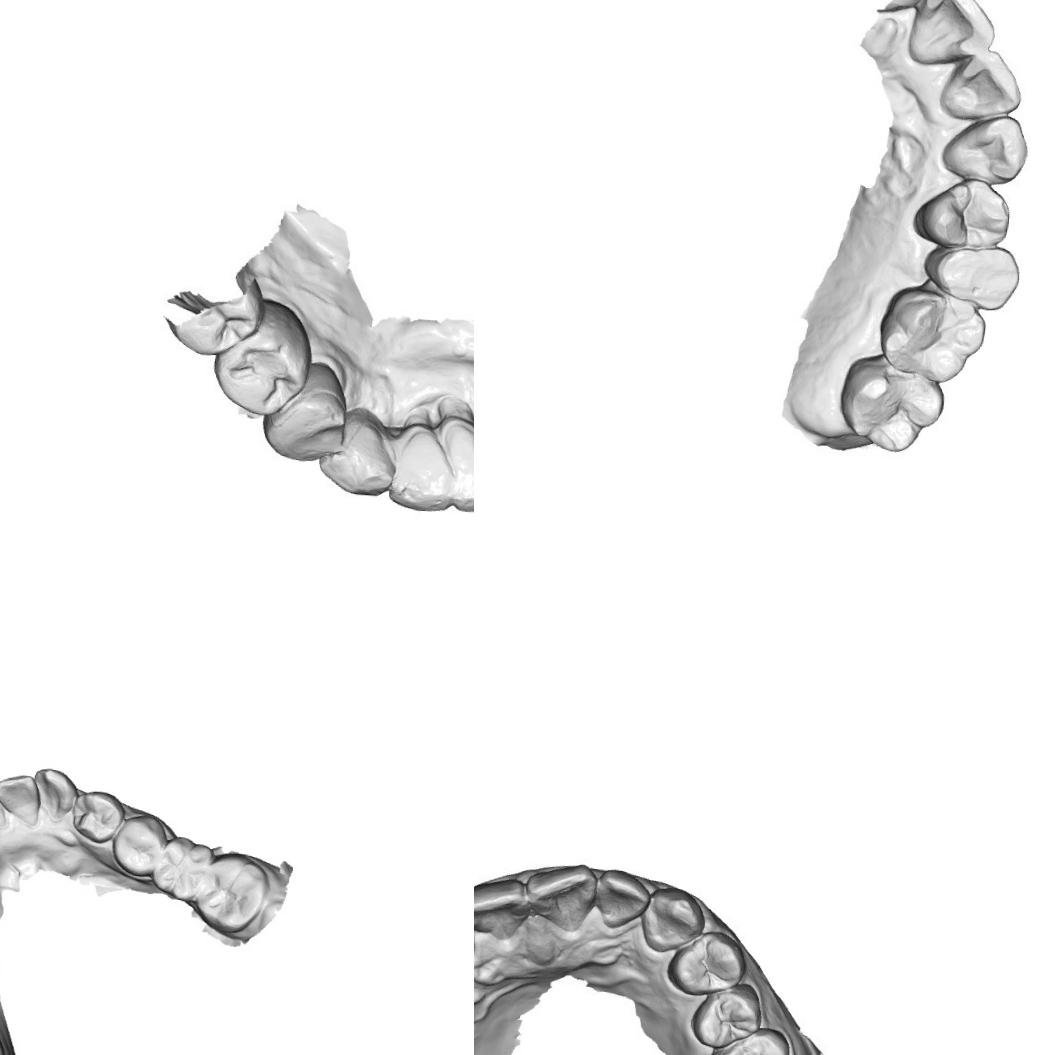canine: (317, 401, 398, 499), (936, 110, 1030, 188), (639, 886, 706, 952), (30, 764, 80, 825)
crown: (918, 237, 1023, 310)
incisor: (384, 412, 460, 516), (934, 44, 1022, 126), (904, 0, 1002, 69), (526, 862, 599, 938), (432, 408, 474, 515), (592, 867, 652, 933), (474, 878, 531, 940), (0, 771, 43, 827)
molar: (868, 279, 992, 388), (832, 349, 949, 456), (190, 848, 272, 938), (150, 832, 216, 903), (704, 1034, 795, 1055)
premolar: (210, 296, 314, 418), (260, 354, 352, 468), (910, 170, 1010, 253), (670, 930, 746, 1000), (689, 983, 764, 1050), (108, 810, 170, 879), (70, 787, 126, 844)
